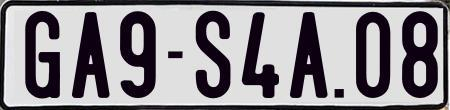0: (353, 10, 392, 101)
4: (242, 12, 282, 100)
8: (401, 9, 437, 101)
9: (119, 9, 161, 101)
A: (288, 10, 328, 99), (72, 9, 110, 95)
G: (23, 8, 64, 99)
S: (195, 9, 235, 99)
